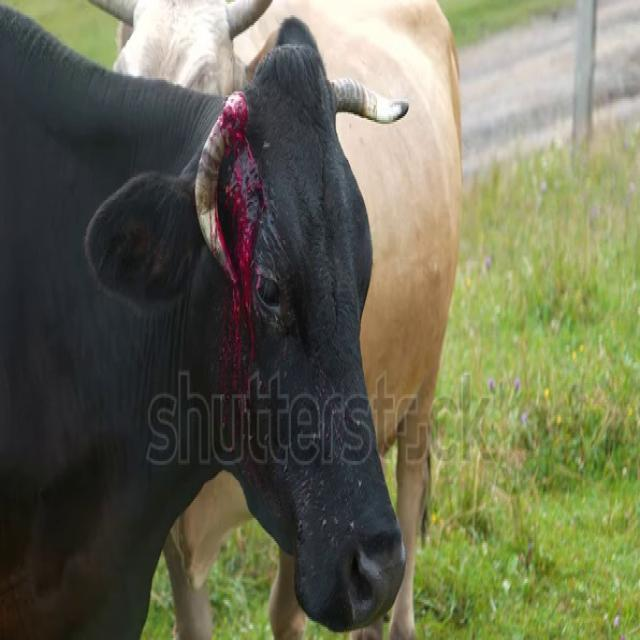injured-animals: (0, 2, 416, 638)
